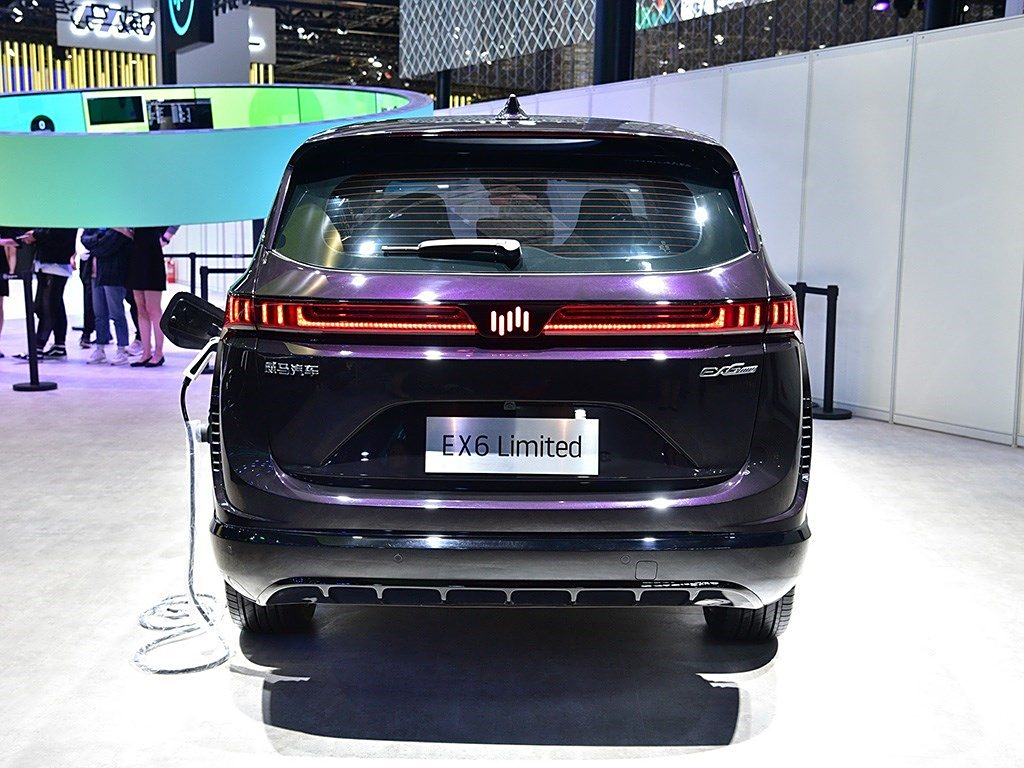WELTMEISTER: (490, 306, 529, 335)
